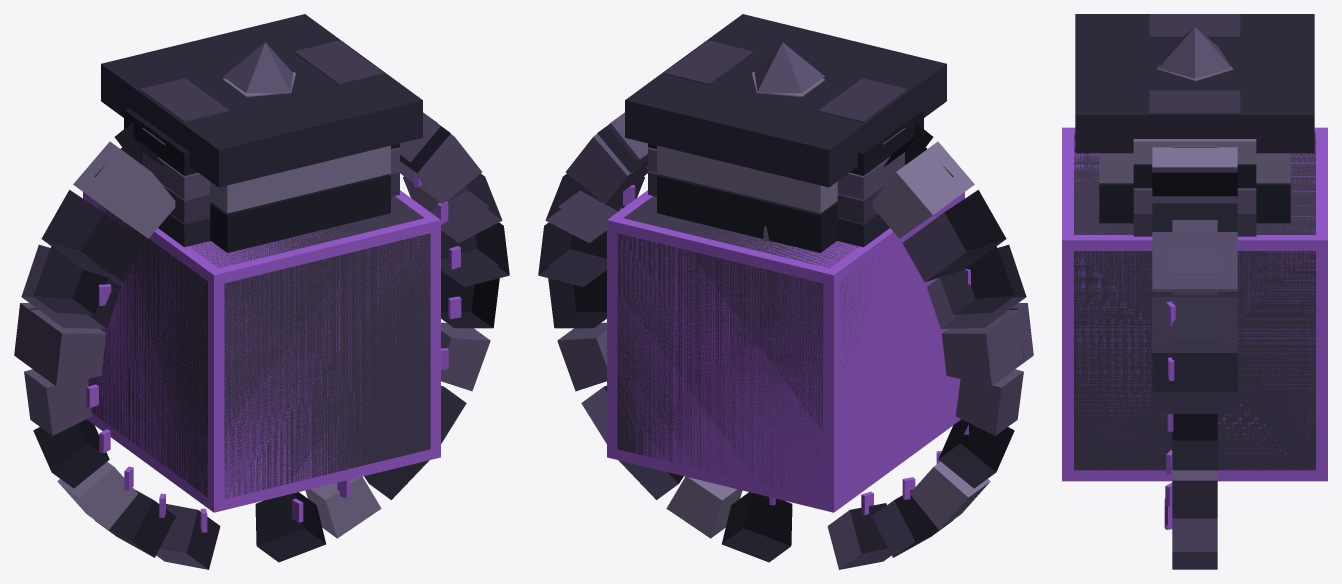
Rendered from abyss-kit.glb.
The picture shows the model from 3 angles, left to right: view 1: azimuth 30°, elevation 25°; view 2: azimuth 150°, elevation 25°; view 3: azimuth 270°, elevation 25°; orthographic projection.
Parts seen in each view (by area): view 1: stone, glow, pillar, ring, arch, furnace, rune, crag; view 2: glow, pillar, stone, ring, arch, furnace, crag, rune; view 3: stone, pillar, glow, arch, ring, furnace, crag, rune.
Part boxes in pixels (x1=…): stone: x1=89, y1=196, x2=430, y2=498; glow: x1=83, y1=190, x2=440, y2=512; pillar: x1=101, y1=14, x2=422, y2=252; ring: x1=24, y1=112, x2=499, y2=569; arch: x1=14, y1=122, x2=509, y2=386; furnace: x1=124, y1=40, x2=399, y2=247; rune: x1=86, y1=173, x2=461, y2=532; crag: x1=223, y1=42, x2=295, y2=97; glow: x1=607, y1=190, x2=964, y2=512; pillar: x1=625, y1=14, x2=946, y2=252; stone: x1=617, y1=196, x2=881, y2=492; ring: x1=548, y1=112, x2=1023, y2=569; arch: x1=538, y1=122, x2=1033, y2=386; furnace: x1=648, y1=40, x2=923, y2=247; crag: x1=752, y1=42, x2=824, y2=242; rune: x1=623, y1=167, x2=970, y2=515; stone: x1=1074, y1=133, x2=1315, y2=470; pillar: x1=1075, y1=14, x2=1314, y2=223; glow: x1=1062, y1=127, x2=1327, y2=481; arch: x1=1152, y1=147, x2=1237, y2=413; ring: x1=1172, y1=146, x2=1217, y2=569; furnace: x1=1133, y1=14, x2=1256, y2=236; crag: x1=1157, y1=27, x2=1292, y2=171; rune: x1=1164, y1=301, x2=1175, y2=529.
Bounding box in the file's own units: 2 × 2.16 × 1.
